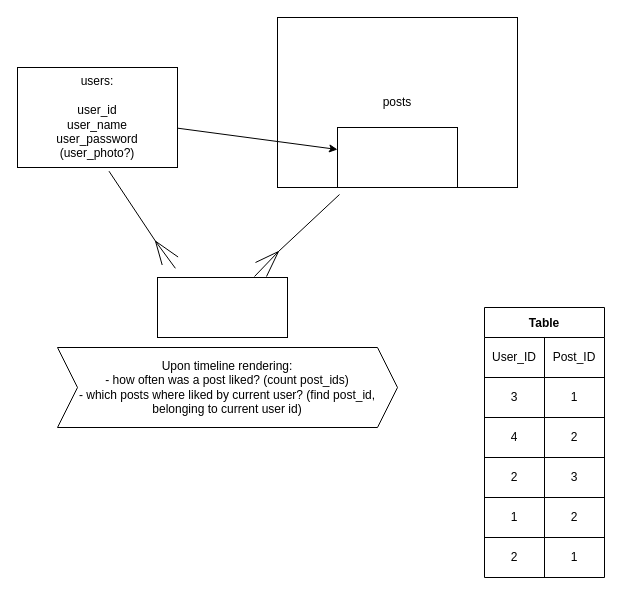
Image size: 622x595. Some labels were removed from this diagram. Each missing label, with the centre of its shape:
Likes: user_id <-> post_id: point (222, 307)
users/user_id users/user_name: point (397, 157)
